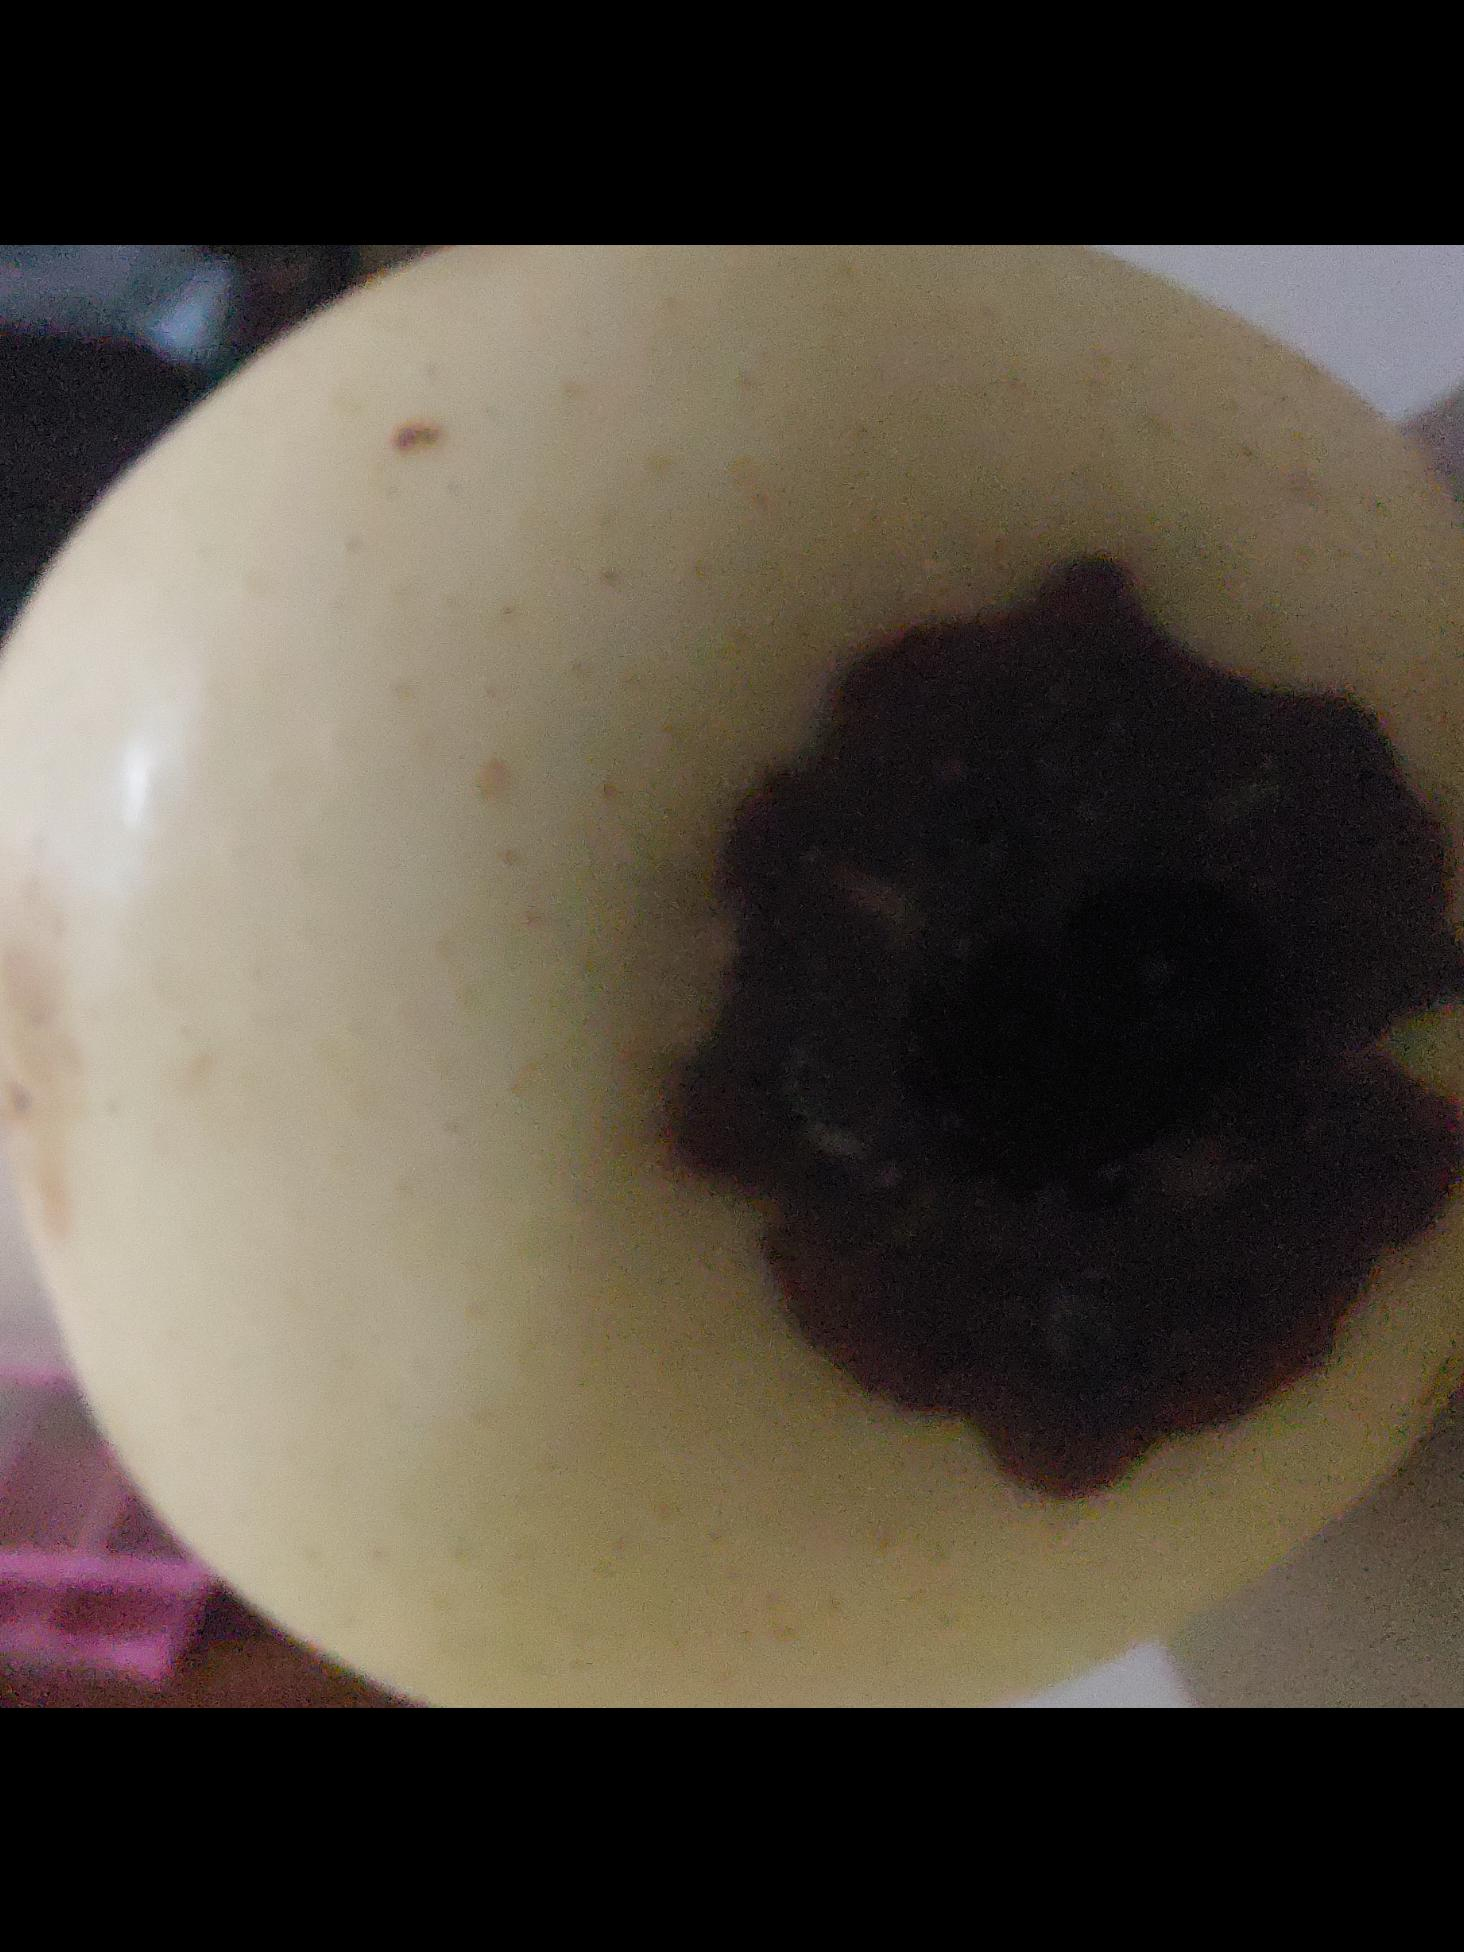Bad Pear: (148, 363, 1464, 1663)
